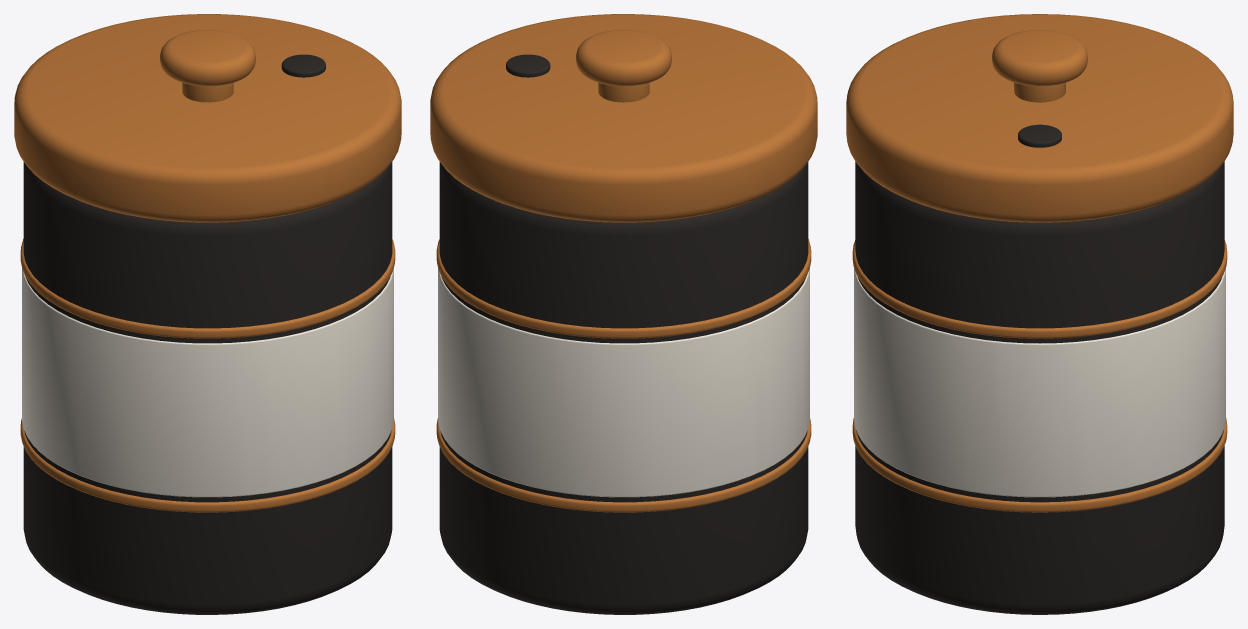
The model's file is canister.glb.
3 renders of one model, left to right at view 1: azimuth 30°, elevation 25°; view 2: azimuth 150°, elevation 25°; view 3: azimuth 270°, elevation 25°, orthographic.
Visible parts, largest first — view 1: body, band-high, label; view 2: body, band-high, label; view 3: body, band-high, label.
Part boxes in pixels (left/top/right/bottom): body: left=23, top=54, right=392, bottom=614; band-high: left=14, top=14, right=401, bottom=512; label: left=22, top=268, right=393, bottom=497; body: left=439, top=54, right=808, bottom=614; band-high: left=430, top=14, right=817, bottom=512; label: left=438, top=268, right=809, bottom=497; body: left=855, top=124, right=1224, bottom=614; band-high: left=846, top=14, right=1233, bottom=512; label: left=854, top=268, right=1225, bottom=497.
Size of the model in its own units: 1.05 by 1.49 by 1.05.
